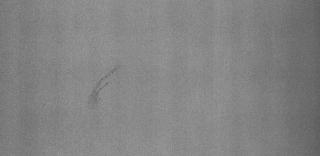water spot: (84, 61, 128, 115)
